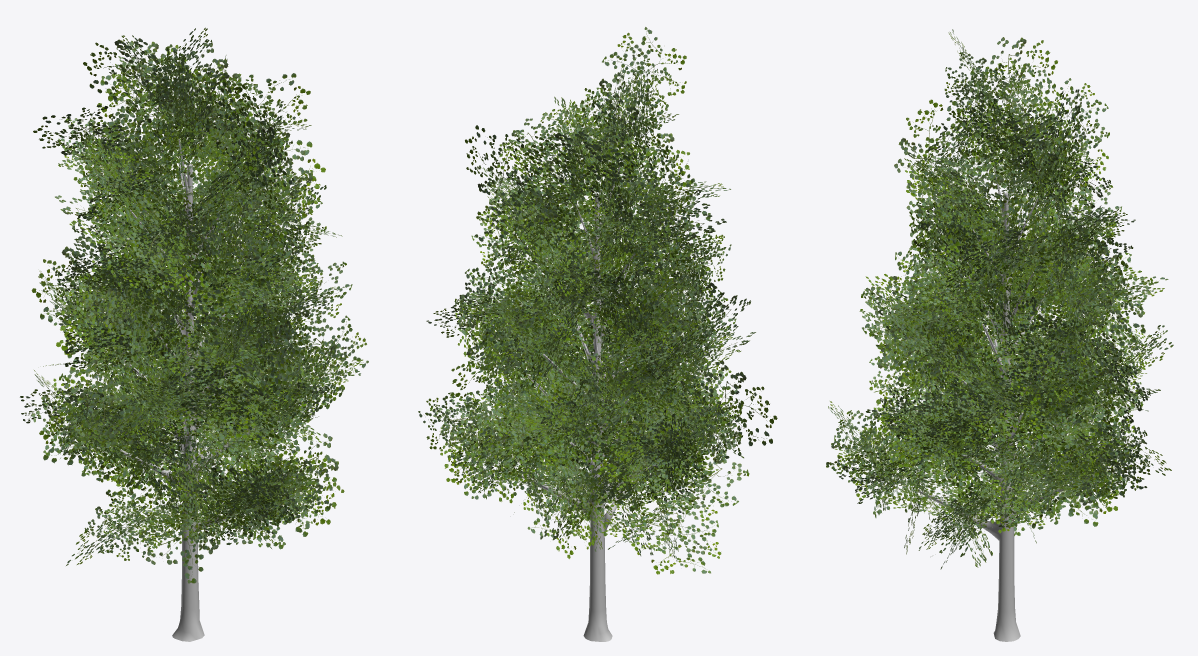
The model's file is White_Poplar_Model_0.obj.
3 renders of one model, left to right at view 1: azimuth 30°, elevation 25°; view 2: azimuth 150°, elevation 25°; view 3: azimuth 270°, elevation 25°, orthographic. The views are drawn at different scales.
Visible parts, largest first — view 1: Foliage__leafcard, Bark; view 2: Foliage__leafcard, Bark; view 3: Foliage__leafcard, Bark.
Boxes of the visible parts, bbox=[...] form: Foliage__leafcard: bbox=[20, 27, 368, 583]; Bark: bbox=[120, 139, 255, 641]; Foliage__leafcard: bbox=[418, 27, 777, 574]; Bark: bbox=[521, 161, 662, 641]; Foliage__leafcard: bbox=[826, 29, 1173, 569]; Bark: bbox=[918, 152, 1075, 641].
Bounding box in the file's own units: 8.9 × 16 × 8.81.
